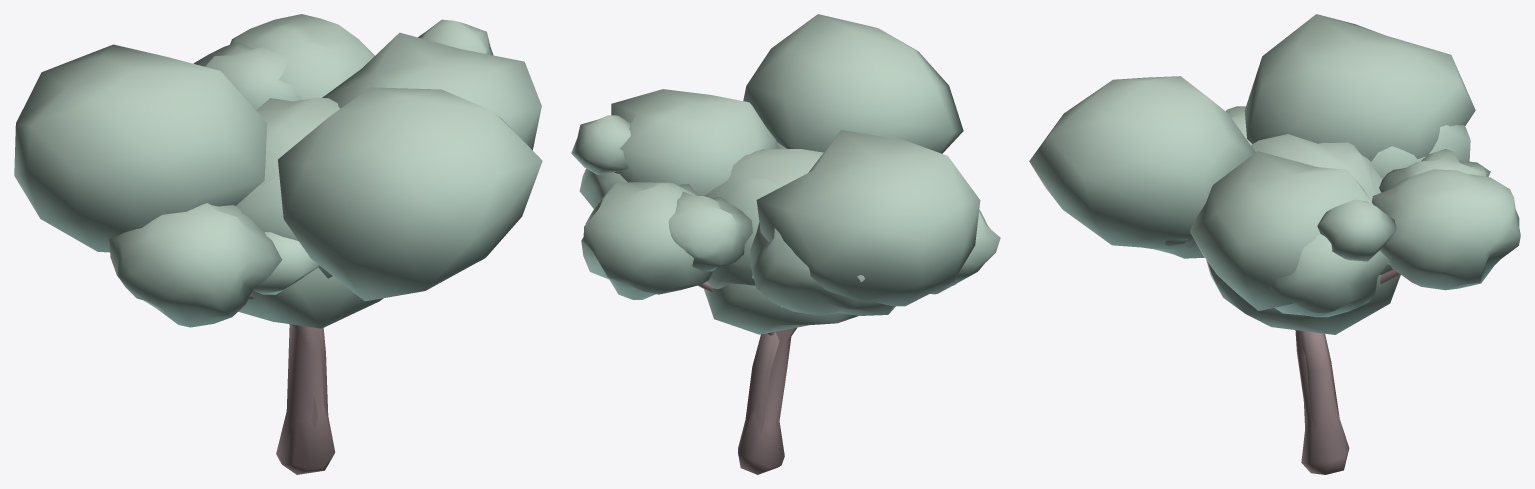
File: oak.glb
The picture shows the model from 3 angles, left to right: view 1: azimuth 30°, elevation 25°; view 2: azimuth 150°, elevation 25°; view 3: azimuth 270°, elevation 25°; orthographic projection. The views are drawn at different scales.
Visible parts, largest first — view 1: far, near; view 2: far, near; view 3: far, near.
Part boxes in pixels (bbox=[...]): far: bbox=[14, 32, 542, 434]; near: bbox=[109, 14, 493, 474]; far: bbox=[611, 14, 980, 437]; near: bbox=[571, 115, 1000, 474]; far: bbox=[1029, 14, 1475, 432]; near: bbox=[1144, 106, 1520, 474].
Bounding box in the file's own units: 12.79 × 11.74 × 13.49.
